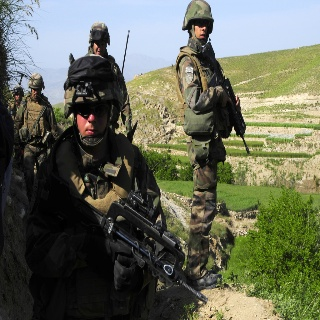rifle: (39, 167, 215, 306), (217, 76, 252, 157)
